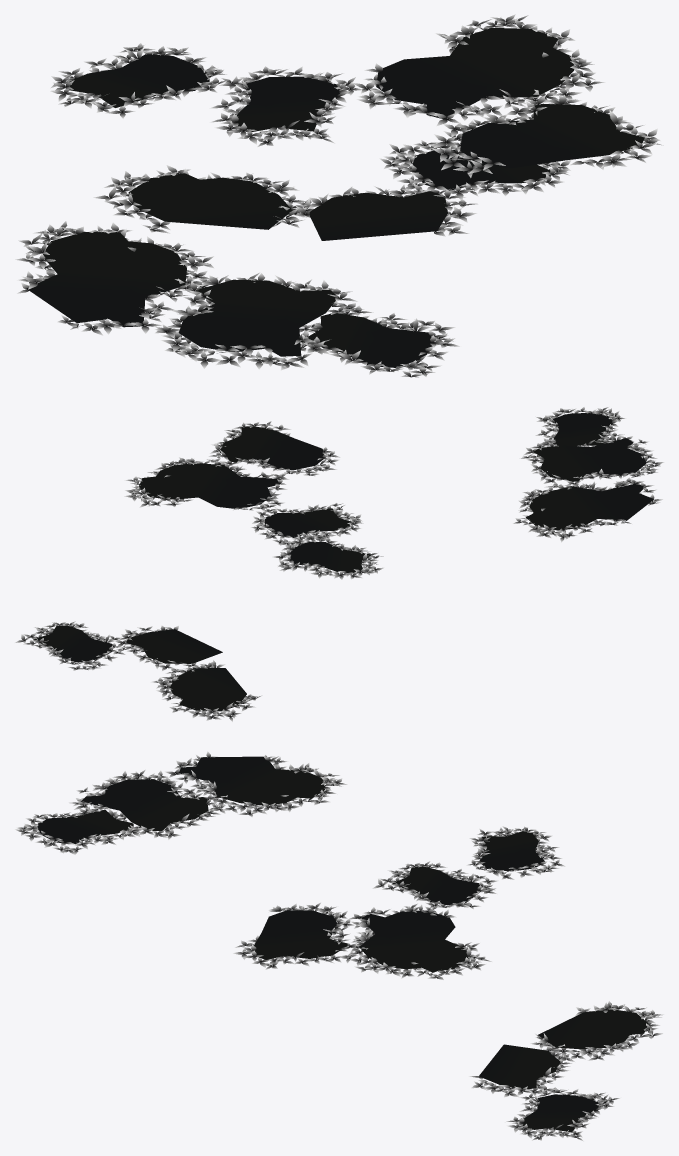
File: SM_ENV_KNFRST_LeafShadow_GroupH.FBX
3 renders of one model, top to bottom at view 1: azimuth 30°, elevation 25°; view 2: azimuth 150°, elevation 25°; view 3: azimuth 270°, elevation 25°, orthographic. The views are drawn at different scales.
Visible parts, largest first — view 1: SM_ENV_KNFRST_LeafShadow_GroupH; view 2: SM_ENV_KNFRST_LeafShadow_GroupH; view 3: SM_ENV_KNFRST_LeafShadow_GroupH.
Part boxes in pixels (x1,y1,x2,y2): SM_ENV_KNFRST_LeafShadow_GroupH: (15,14,663,377); SM_ENV_KNFRST_LeafShadow_GroupH: (15,407,664,722); SM_ENV_KNFRST_LeafShadow_GroupH: (15,751,663,1141).
Bounding box in the file's own units: 2953 × 811 × 3234.
